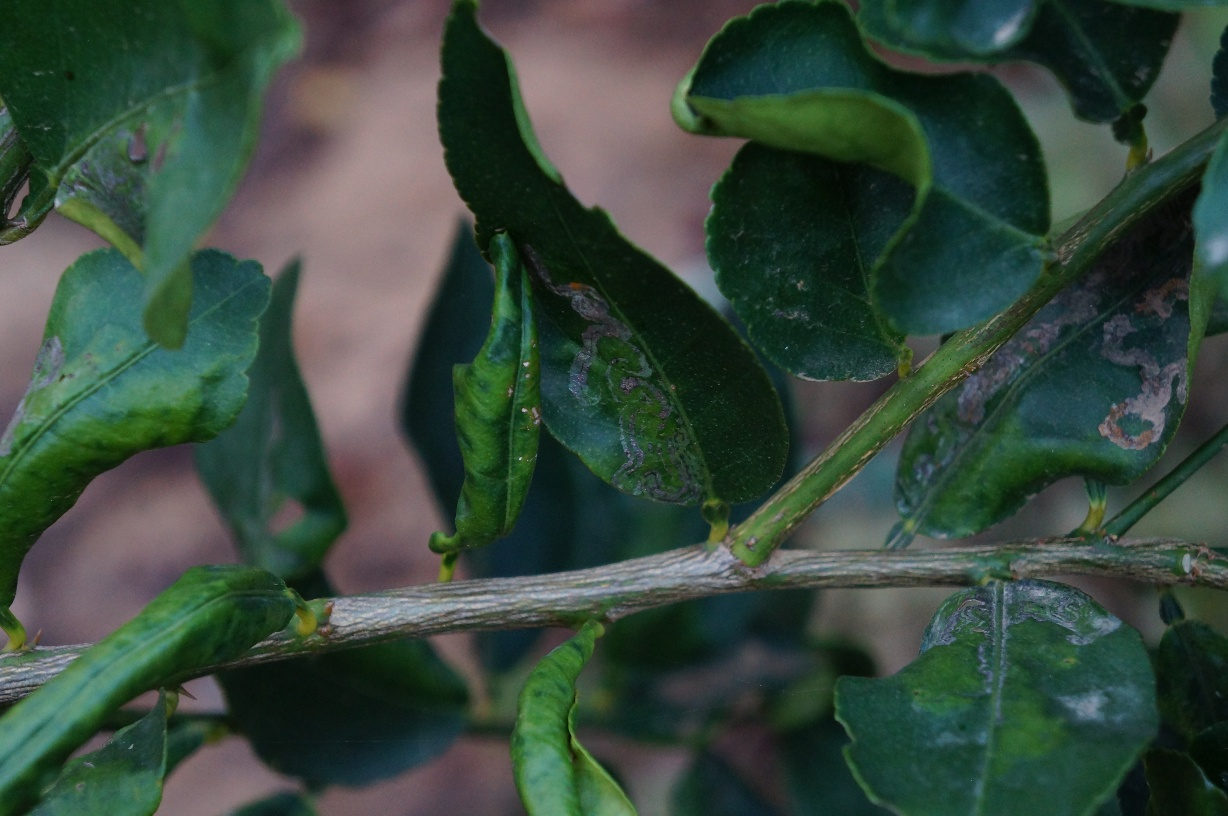curly: (0, 555, 298, 814), (419, 220, 543, 568), (505, 600, 643, 816)
damage: (516, 229, 728, 503), (907, 265, 1095, 491), (1091, 257, 1210, 459), (906, 581, 1131, 651)
